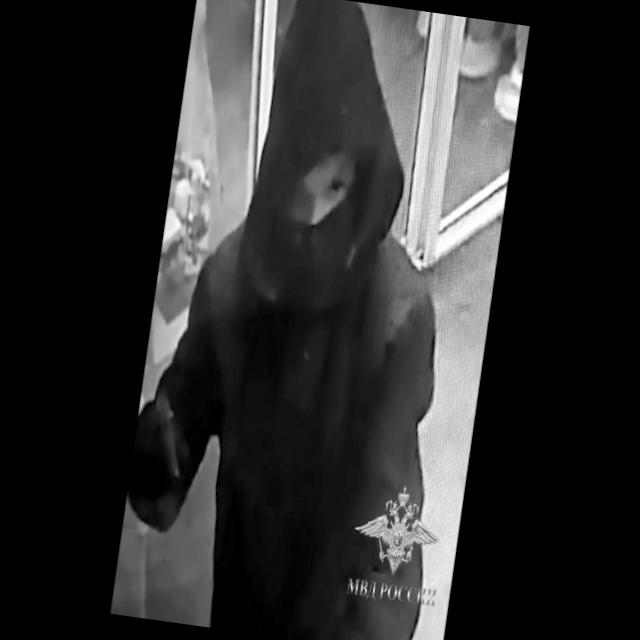gun: (132, 382, 201, 536)
person with a gun: (112, 0, 484, 640)
